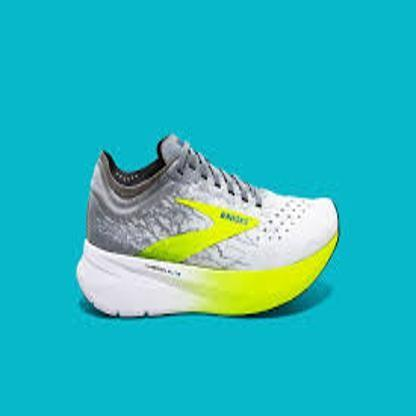not trash: (78, 133, 339, 317)
